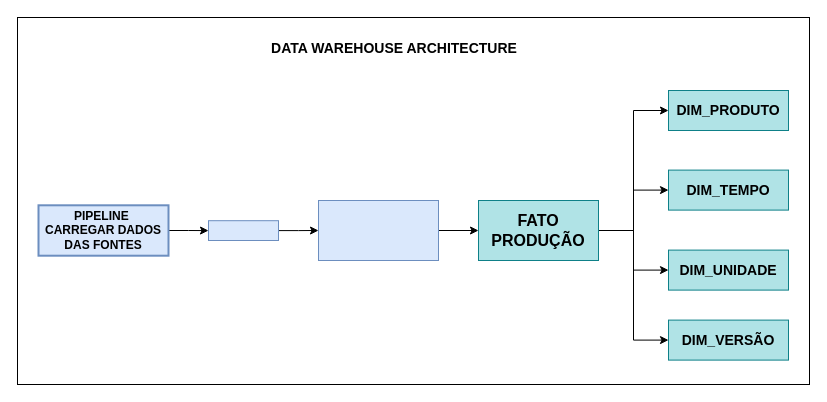
This 827x402 diagram has some shape labels left out. The shapes that lost their labels are listed below. From the top down, each one's centre as x and y in pixels, then its label:
the point at 243,230: STAGING
the point at 378,230: ETL PIPELINE
